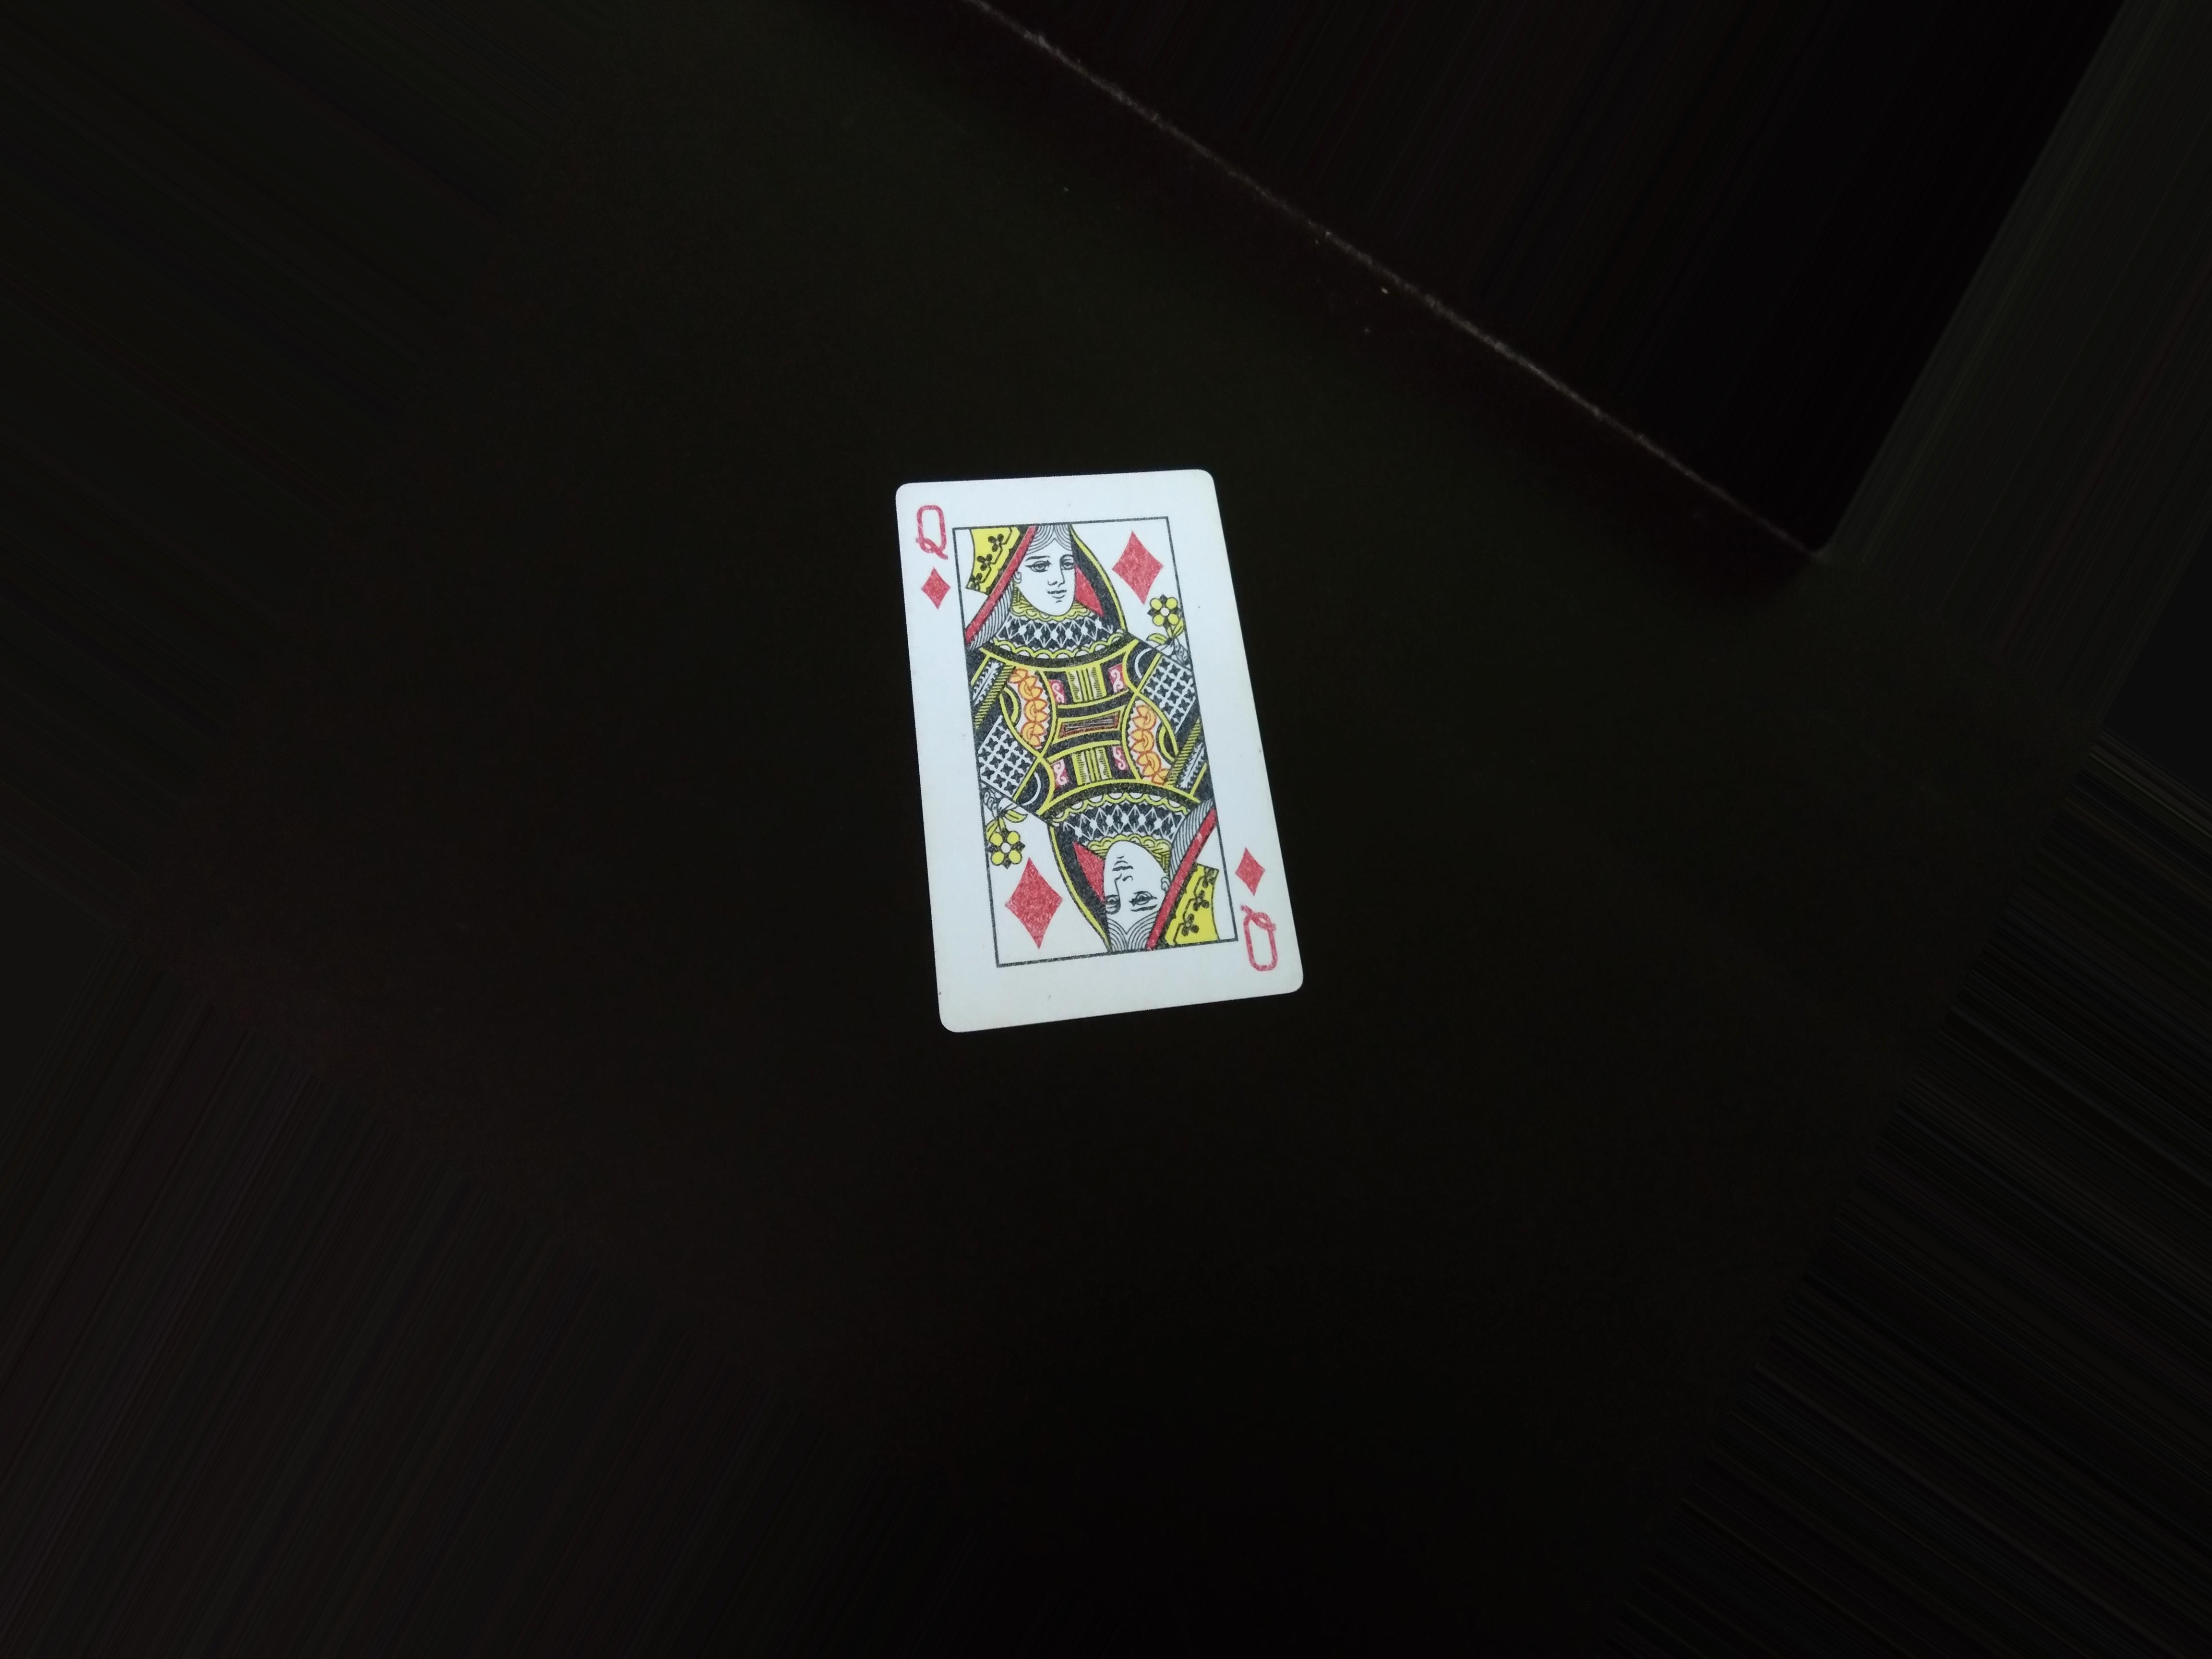QD: (902, 490, 960, 613)
